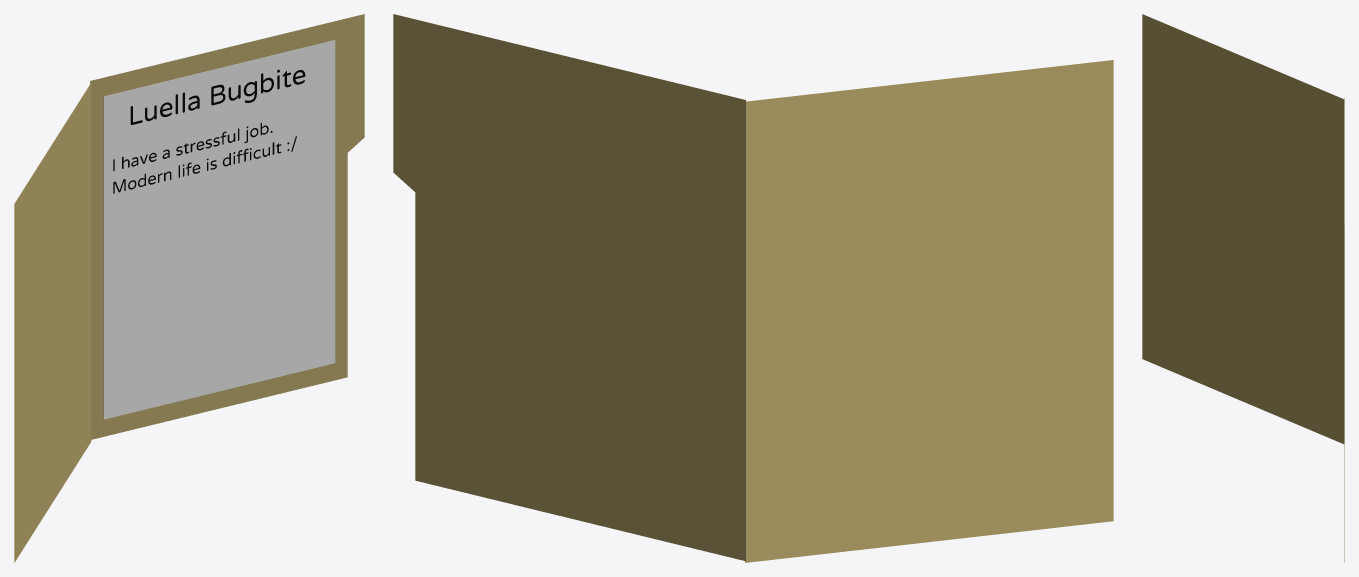
File: folder_two.fbx
3 renders of one model, left to right at view 1: azimuth 30°, elevation 25°; view 2: azimuth 150°, elevation 25°; view 3: azimuth 270°, elevation 25°, orthographic. The views are drawn at different scales.
Parts seen in each view (by area): view 1: Text.001; view 2: Text.001; view 3: Text.001.
Boxes of the visible parts, box(x1,y1,x2,y2) form: Text.001: box(14, 14, 364, 562); Text.001: box(393, 14, 1113, 562); Text.001: box(1142, 14, 1344, 562).
Size of the model in its own units: 265 by 201 by 106.
